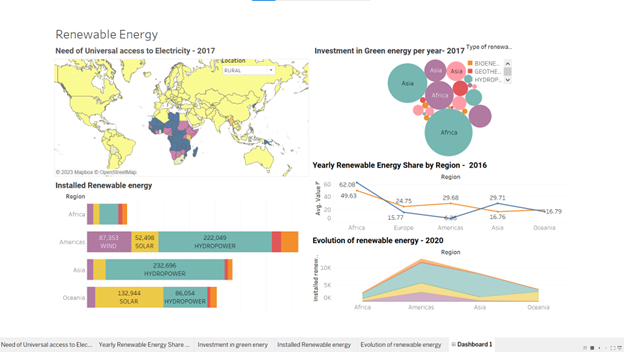

The dashboard page shown, as its layout file describes it:
{"tool":"tableau","page":{"name":"Dashboard 1","canvas":[1600,900],"ordinal":0},"visuals":[{"type":"title","box":[8,8,1584,50]},{"type":"worksheet","title":"Need of Universal access to Electricity","mark":"Multipolygon","box":[8,58,788.9,417]},{"type":"worksheet","title":" Investment in green enery","mark":"Circle","box":[796.9,58,795.1,354.7]},{"type":"legend","title":" Investment in green enery","param":"[federated.0wlykw91puwsnj1fs71xe1aew3tq].[none:Type of renewable technology:nk]","box":[1276,63,142,128]},{"type":"filter","title":"Need of Universal access to Electricity","param":"[federated.1i6dpz61k3bxv7126v23i0vmbh0x].[none:Location:nk]","box":[526,105,168,61]},{"type":"worksheet","title":"Yearly Renewable Energy Share by Region ","mark":"Line","rows":["Value"],"cols":["region"],"box":[796.9,412.7,795.1,233]},{"type":"worksheet","title":"Installed Renewable energy","mark":"Automatic","rows":["region"],"cols":["Calculation_584623533183541248"],"box":[8,475,788.9,417]},{"type":"worksheet","title":"Evolution of renewable energy","mark":"Area","rows":["Value"],"cols":["region"],"box":[796.9,645.8,795.1,246.2]}]}

Visuals, with their boxes on the page's 1600x900 design canvas (x1, y1, x2, y2). These are canvas units, not pixel positions in the 624x352 screenshot, which may show the page scaled, cropped or inside an application window:
title: 8, 8, 1592, 58
"Need of Universal access to Electricity" worksheet (Multipolygon marks): 8, 58, 797, 475
" Investment in green enery" worksheet (Circle marks): 797, 58, 1592, 413
" Investment in green enery" legend: 1276, 63, 1418, 191
"Need of Universal access to Electricity" filter: 526, 105, 694, 166
"Yearly Renewable Energy Share by Region " worksheet (Line marks): 797, 413, 1592, 646
"Installed Renewable energy" worksheet: 8, 475, 797, 892
"Evolution of renewable energy" worksheet (Area marks): 797, 646, 1592, 892
